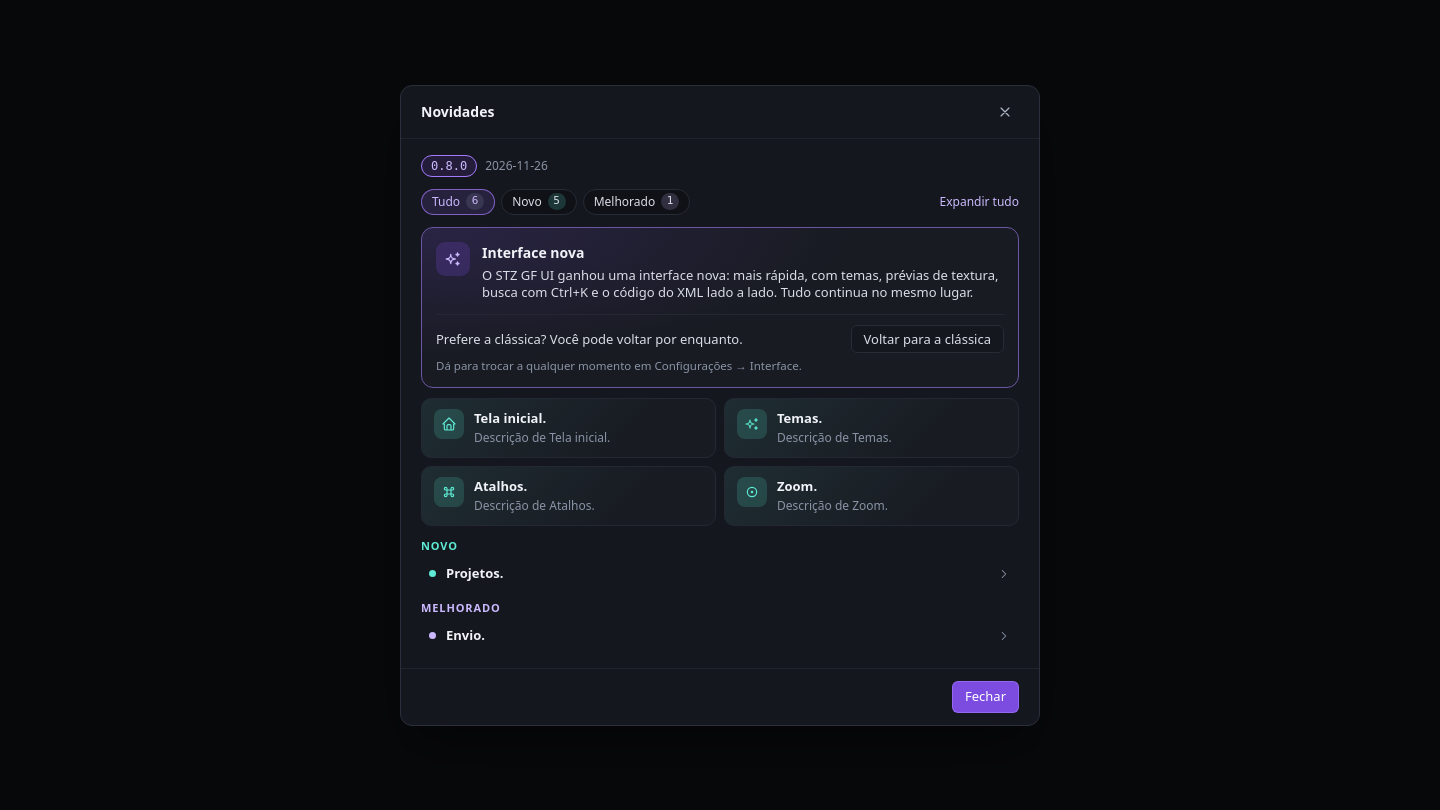
Test: Novidades depois de atualizar › Voltar para a clássica: grava a interface e oferece reiniciar (com Salvar/Descartar)
The width and height of the screenshot is (1440, 810).
Later steps or results of the test are not shown.
expect the element with test id "whats-new" is shown: met, box [421,154,1019,652]
Click the button with test id "back-to-classic" at (927, 339), box [850,325,1004,353]
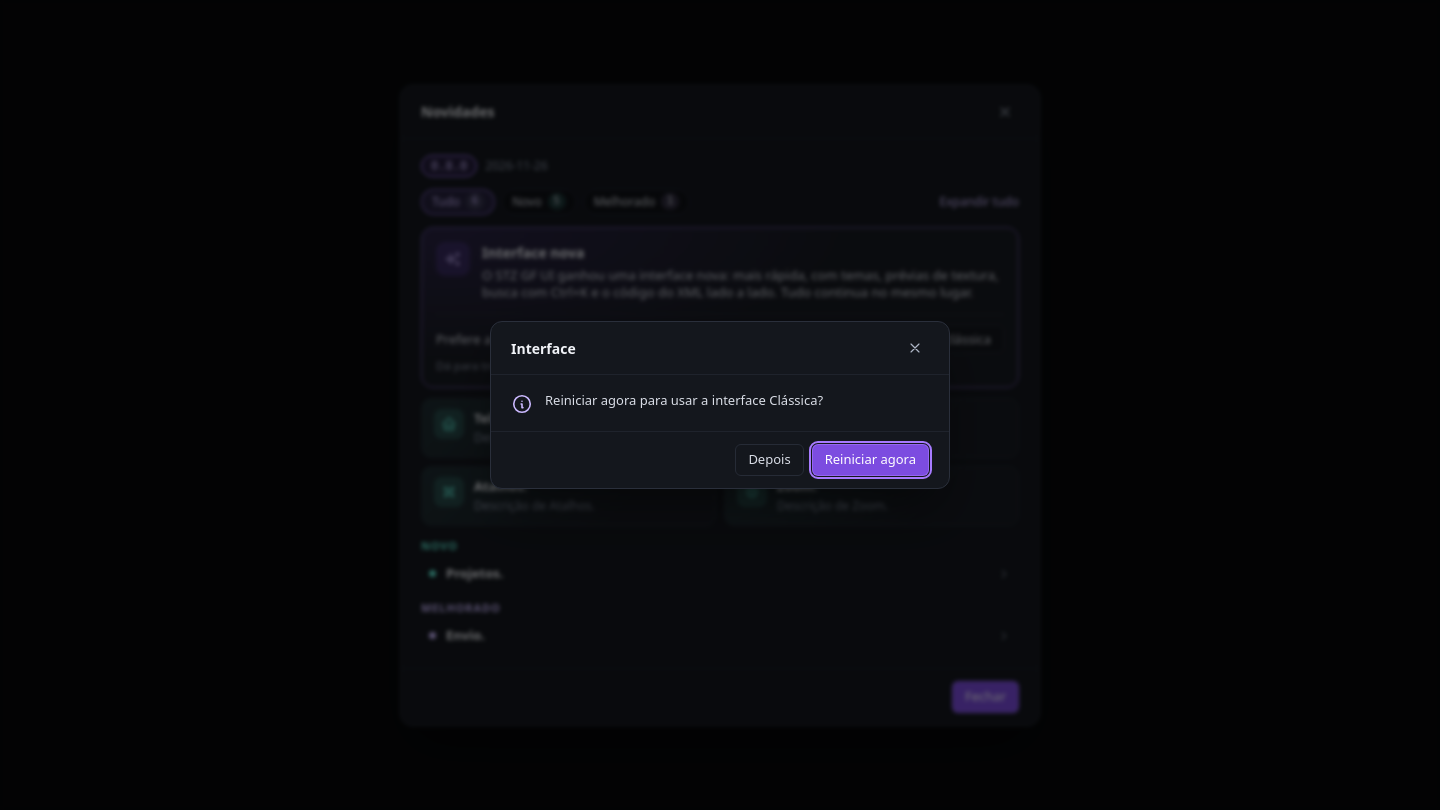
expect the text "Reiniciar agora para usar a interface Clássica?" is shown: met, box [545,391,823,409]
